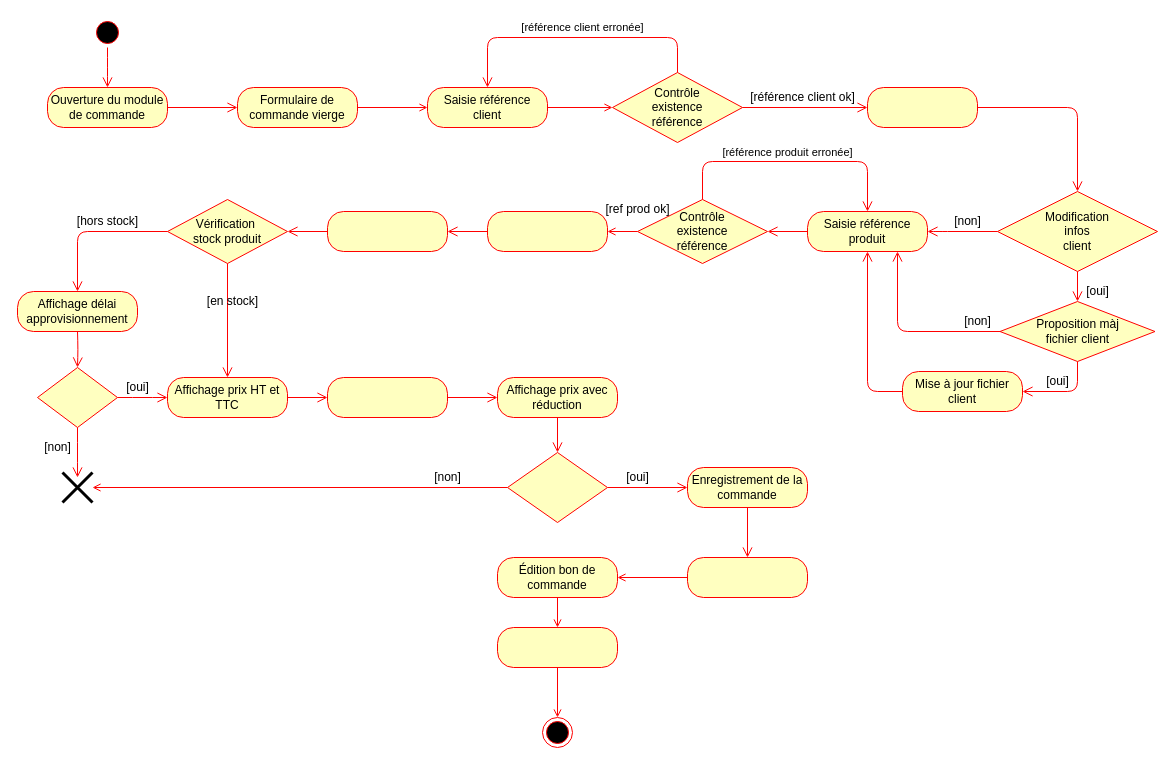
Image size: 1175x765. Some labels were removed from this diagram. The centre of each missing label's shape, as x and y in pixels:
"Affichage infos produit" belongs at point (547, 231).
"Attribution numéro de commande" belongs at point (747, 577).
"Autocomplétion infos client" belongs at point (922, 107).
"Confirmation commande" belongs at point (557, 487).
"Délai accepté" belongs at point (77, 397).
"Saisie quantité" belongs at point (387, 231).
"Saisie réduction" belongs at point (387, 397).
"Édition facture" belongs at point (557, 647).
